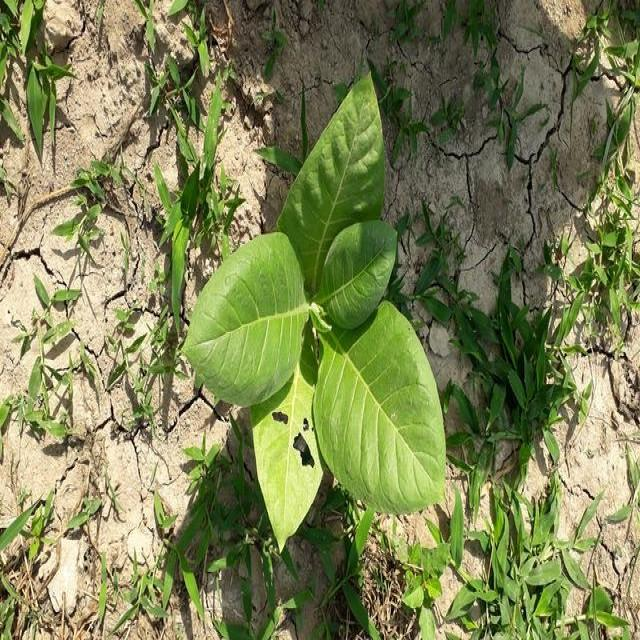crop: (176, 68, 451, 558)
